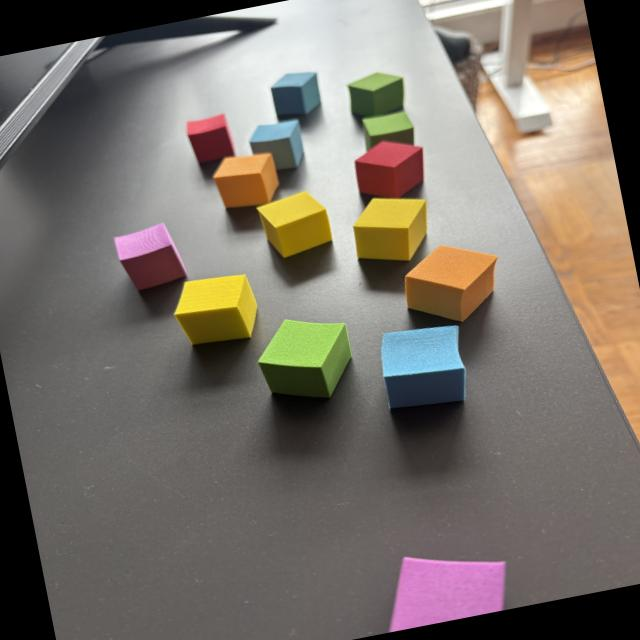bluecube: (381, 326, 466, 409), (250, 119, 304, 170), (271, 72, 321, 120)
greencube: (259, 320, 352, 397), (348, 72, 404, 118), (362, 111, 414, 151)
orangecube: (405, 245, 497, 322), (213, 152, 279, 208)
purplecube: (390, 557, 505, 632), (115, 223, 187, 291)
redcube: (355, 141, 424, 198), (187, 114, 235, 163)
yellowcube: (175, 275, 258, 345), (257, 191, 332, 257), (353, 198, 427, 261)
